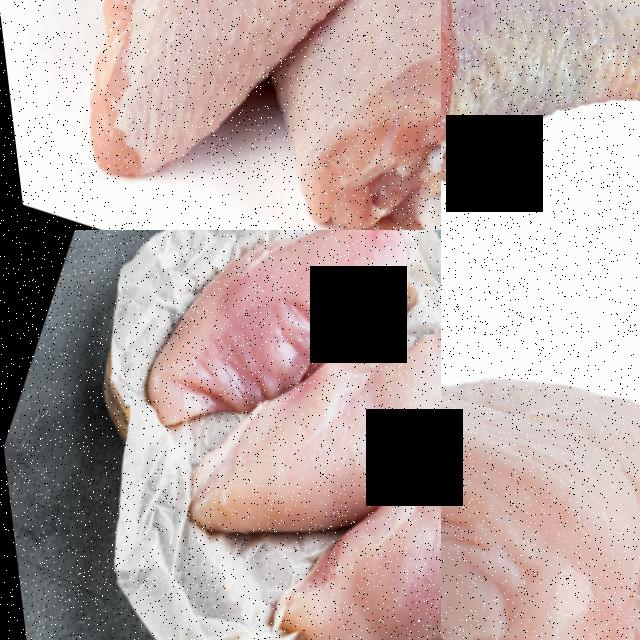chicken breast: (441, 230, 640, 640), (122, 230, 416, 445), (222, 351, 441, 578), (273, 454, 441, 640)
chicken thigh: (7, 0, 441, 230), (229, 0, 441, 230), (441, 0, 640, 230)
